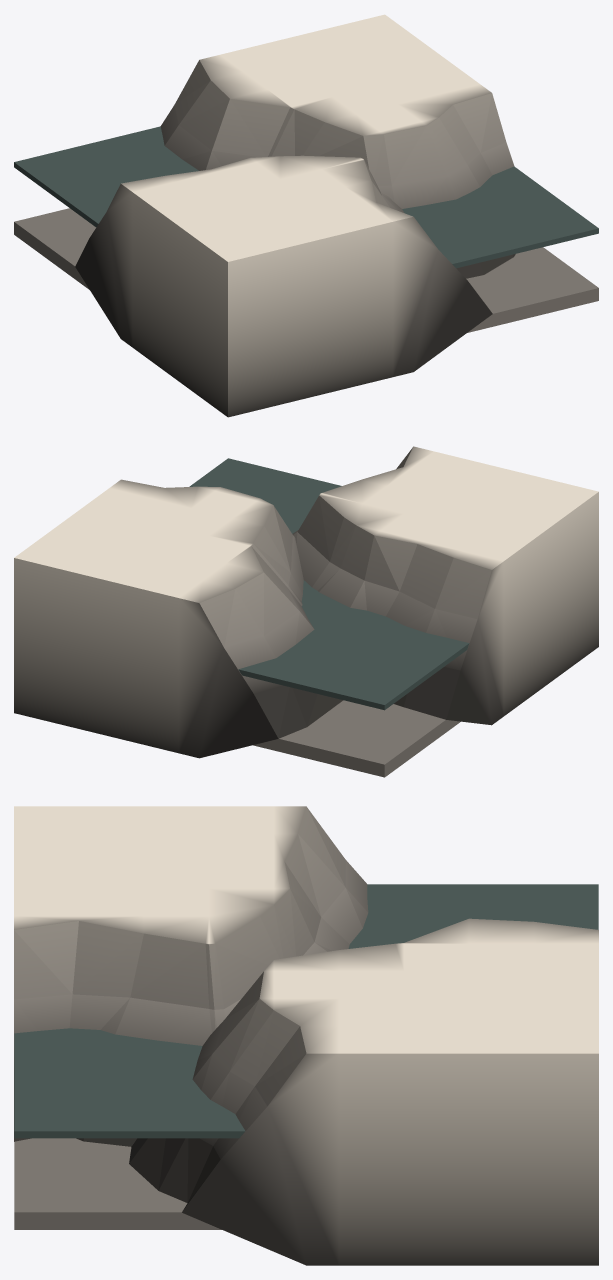
The model's file is SM_VKI_Ground_Stream_OXOX_Q10.fbx.
The picture shows the model from 3 angles, top to bottom: view 1: azimuth 30°, elevation 25°; view 2: azimuth 150°, elevation 25°; view 3: azimuth 270°, elevation 25°; orthographic projection. The views are drawn at different scales.
Visible parts, largest first — view 1: SM_VKI_Ground_Stream_OXOX_Q10.001; view 2: SM_VKI_Ground_Stream_OXOX_Q10.001; view 3: SM_VKI_Ground_Stream_OXOX_Q10.001.
Boxes of the visible parts, box(x1,y1,x2,y2) form: SM_VKI_Ground_Stream_OXOX_Q10.001: box(14, 14, 598, 417); SM_VKI_Ground_Stream_OXOX_Q10.001: box(14, 446, 598, 777); SM_VKI_Ground_Stream_OXOX_Q10.001: box(14, 806, 598, 1265).
Size of the model in its own units: 1.5 by 0.6 by 1.5.
